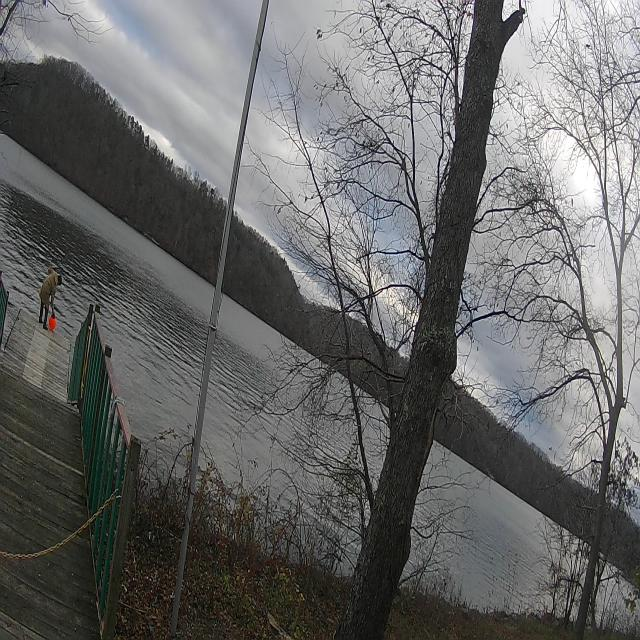Buoy: (48, 312, 58, 332)
